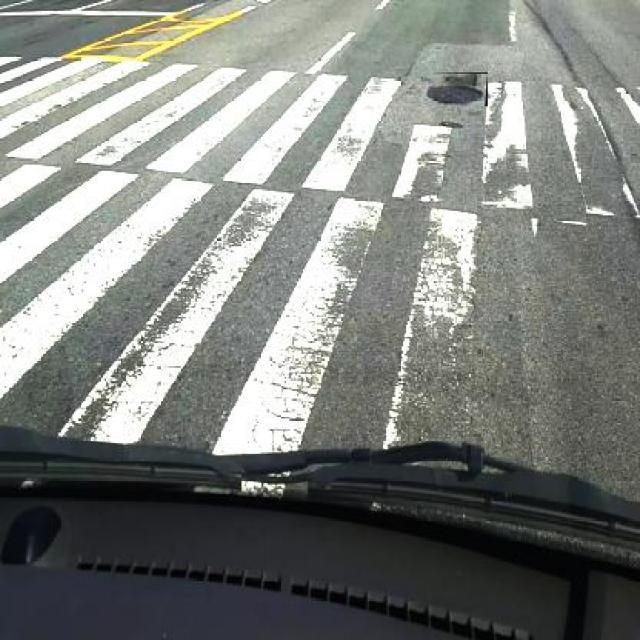Manhole: (428, 85, 487, 106)
Pothole: (436, 117, 466, 130), (439, 74, 478, 82)
